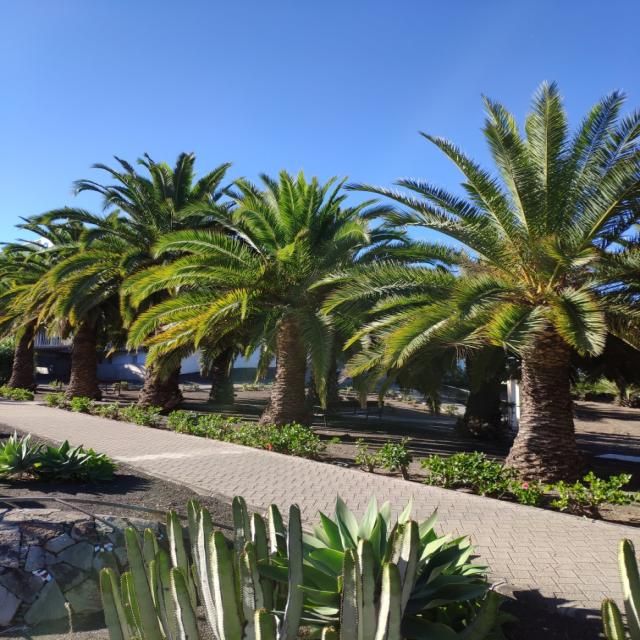Palm-Trees: (378, 81, 640, 480), (173, 175, 404, 429)
